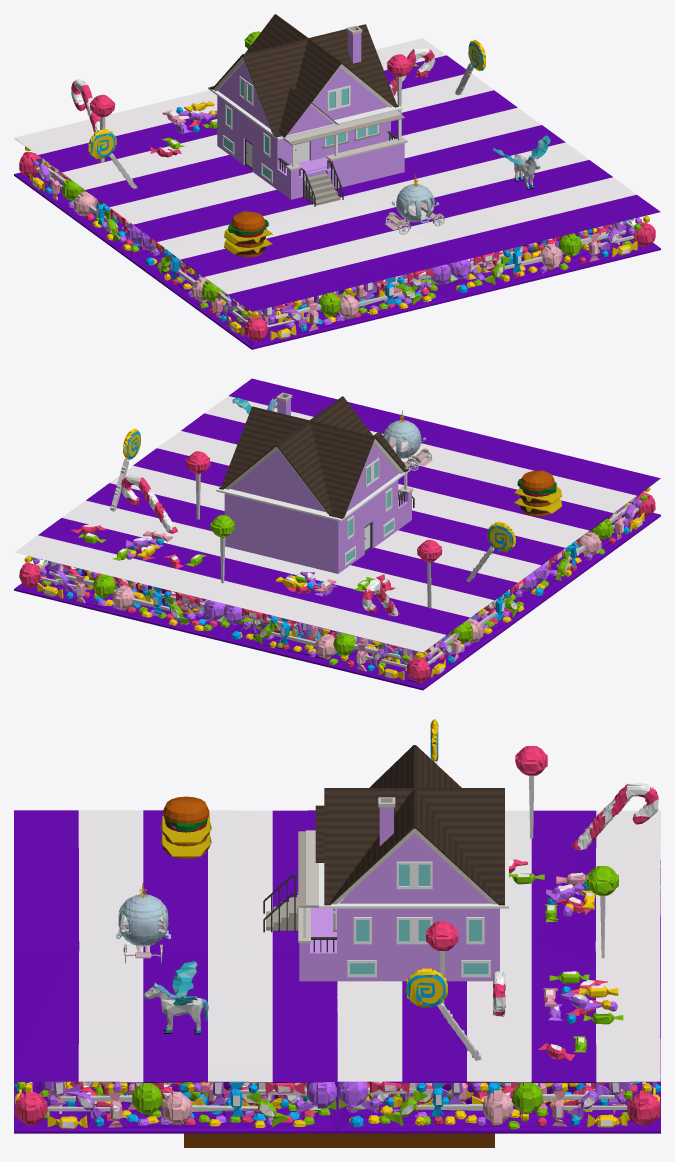
The picture shows the model from 3 angles, top to bottom: view 1: azimuth 30°, elevation 25°; view 2: azimuth 150°, elevation 25°; view 3: azimuth 270°, elevation 25°; orthographic projection. The views are drawn at different scales.
Visible parts, largest first — view 1: TERRAIN_CANDY, Cube.391, VEHICLES_FANTASY_CARRIAGE, OBJRANDOM_HAMBURGER, ANIMAL_PEGASO; view 2: TERRAIN_CANDY, Cube.391, OBJRANDOM_HAMBURGER, VEHICLES_FANTASY_CARRIAGE; view 3: TERRAIN_CANDY, Cube.391, UNDERGROUND_ART_PIECE_VAN_GOGH, OBJRANDOM_HAMBURGER, VEHICLES_FANTASY_CARRIAGE, ANIMAL_PEGASO.
Part boxes in pixels (left/top/right/bottom): TERRAIN_CANDY: left=14, top=31, right=660, bottom=349; Cube.391: left=208, top=14, right=407, bottom=206; VEHICLES_FANTASY_CARRIAGE: left=385, top=174, right=444, bottom=234; OBJRANDOM_HAMBURGER: left=224, top=211, right=272, bottom=257; ANIMAL_PEGASO: left=493, top=135, right=550, bottom=189; TERRAIN_CANDY: left=14, top=378, right=660, bottom=690; Cube.391: left=216, top=392, right=414, bottom=573; OBJRANDOM_HAMBURGER: left=513, top=470, right=561, bottom=516; VEHICLES_FANTASY_CARRIAGE: left=383, top=410, right=432, bottom=470; TERRAIN_CANDY: left=14, top=719, right=660, bottom=1133; Cube.391: left=263, top=745, right=508, bottom=981; UNDERGROUND_ART_PIECE_VAN_GOGH: left=184, top=1133, right=494, bottom=1147; OBJRANDOM_HAMBURGER: left=160, top=796, right=211, bottom=858; VEHICLES_FANTASY_CARRIAGE: left=116, top=883, right=170, bottom=963; ANIMAL_PEGASO: left=144, top=961, right=208, bottom=1034.
Size of the model in its own units: 4059 by 1710 by 4000.
30 materials, 3 textured.
